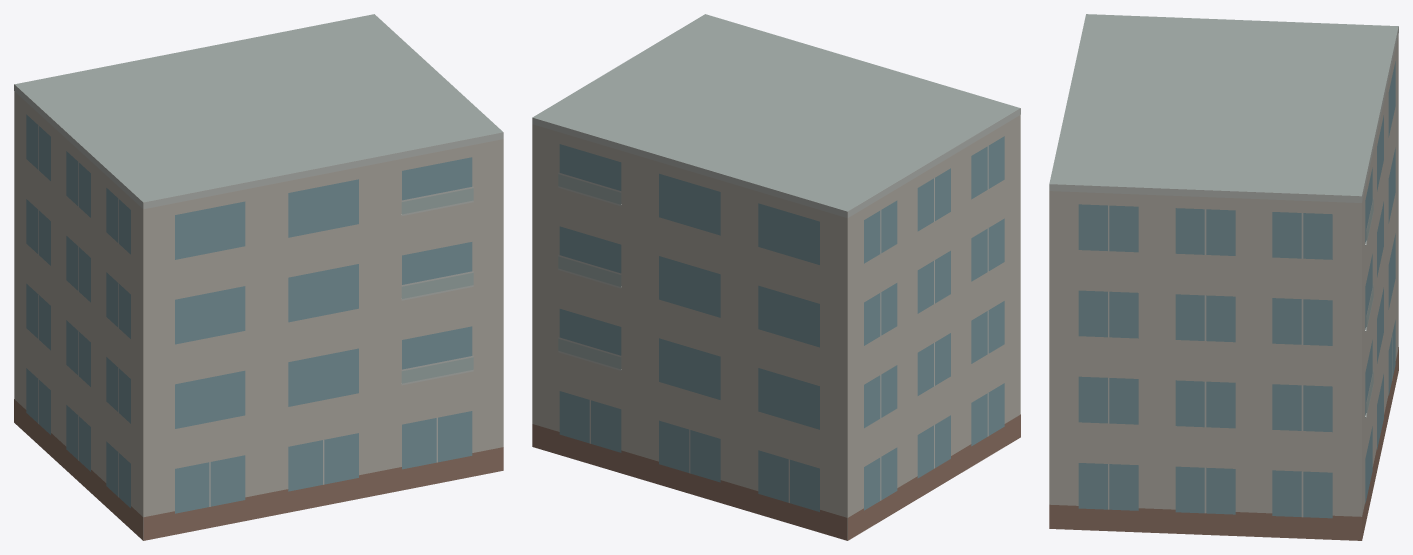
The model's file is residential-90e97669-0af9-4964-8af2-beafaa283d7e.glb.
The picture shows the model from 3 angles, left to right: view 1: azimuth 30°, elevation 25°; view 2: azimuth 150°, elevation 25°; view 3: azimuth 270°, elevation 25°; orthographic projection. The views are drawn at different scales.
Visible parts, largest first — view 1: residential-90e97669-0af9-4964-8af2-beafaa283d7e.tmp; view 2: residential-90e97669-0af9-4964-8af2-beafaa283d7e.tmp; view 3: residential-90e97669-0af9-4964-8af2-beafaa283d7e.tmp.
Boxes of the visible parts, x1,y1,x2,y2 form: residential-90e97669-0af9-4964-8af2-beafaa283d7e.tmp: (14, 14, 503, 540); residential-90e97669-0af9-4964-8af2-beafaa283d7e.tmp: (532, 14, 1020, 540); residential-90e97669-0af9-4964-8af2-beafaa283d7e.tmp: (1049, 14, 1398, 540).
Bounding box in the file's own units: 13.84 × 12.2 × 11.22.
